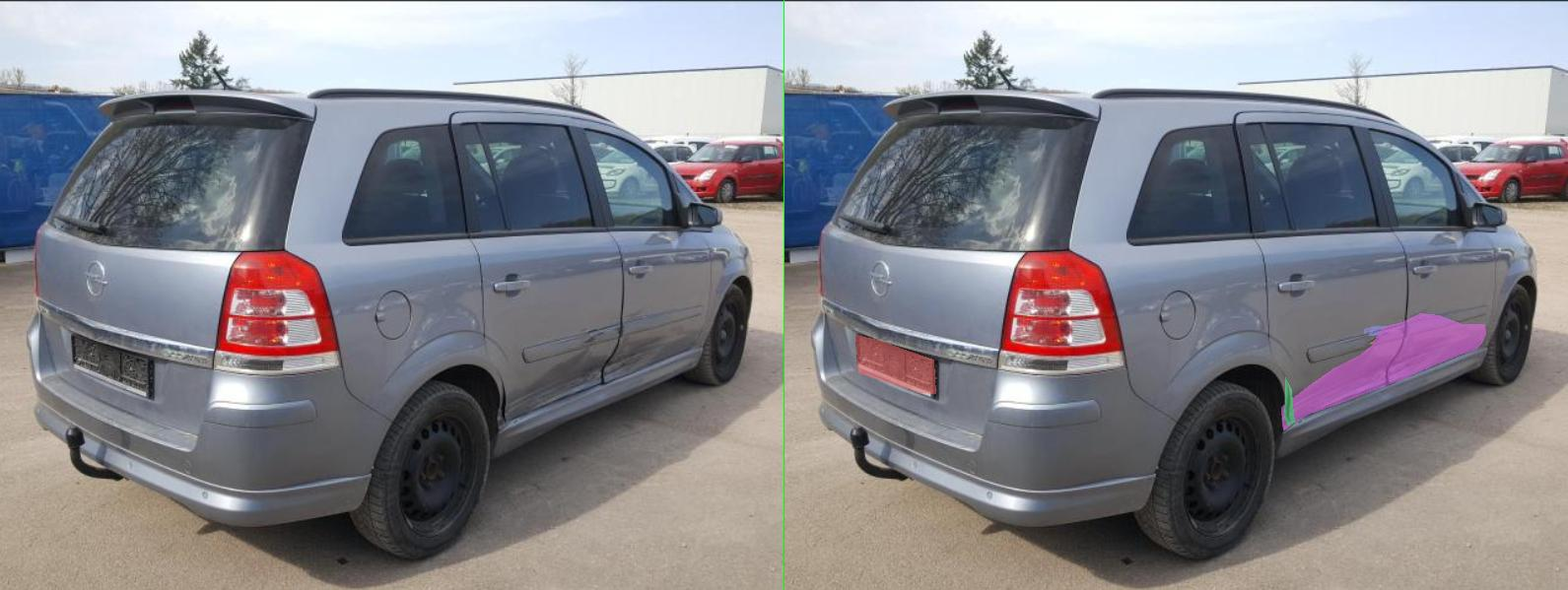Broken part: (1000, 377, 1020, 425)
Dent: (994, 313, 1402, 429)
Missing part: (142, 335, 302, 393)
Paint chip: (1172, 332, 1205, 344)
Scratch: (1061, 392, 1138, 407), (1213, 361, 1278, 374), (1160, 326, 1201, 333), (1168, 328, 1207, 335)
